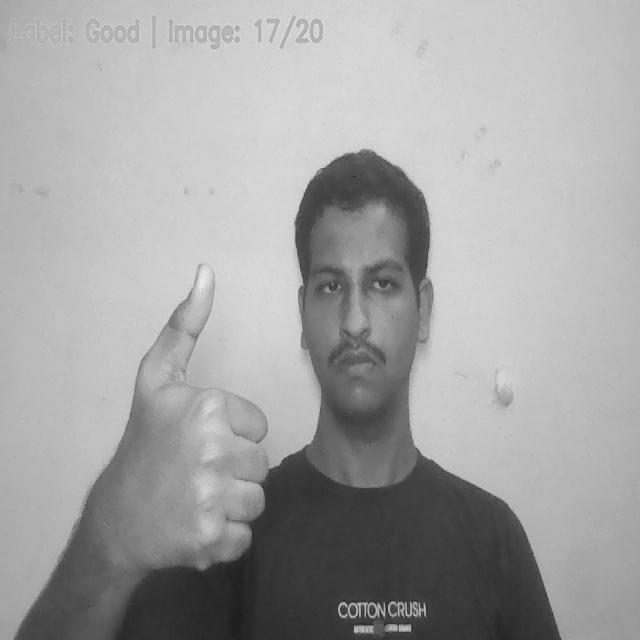Good: (83, 261, 268, 572)
